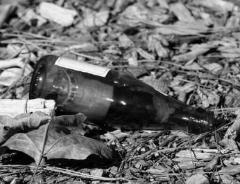glass: (28, 55, 216, 137)
